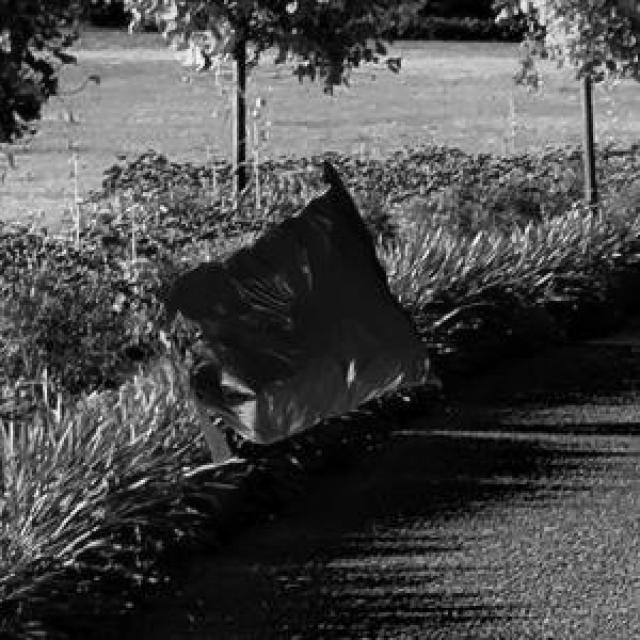miscellaneous trash: (162, 158, 437, 461)
